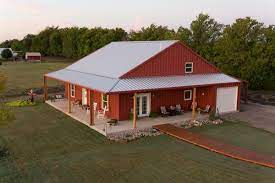Tin-shade House: (37, 35, 245, 130)
